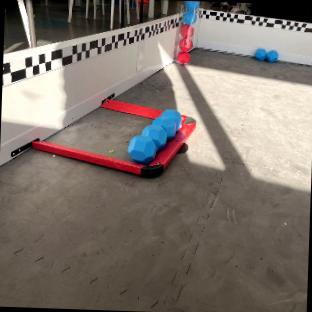Parking-R: (32, 116, 196, 174)
V5_BLUE: (128, 109, 181, 163), (152, 110, 180, 138), (184, 1, 198, 24), (267, 51, 279, 61), (255, 50, 266, 60)
V5_RED: (179, 24, 193, 50), (177, 49, 190, 63)
